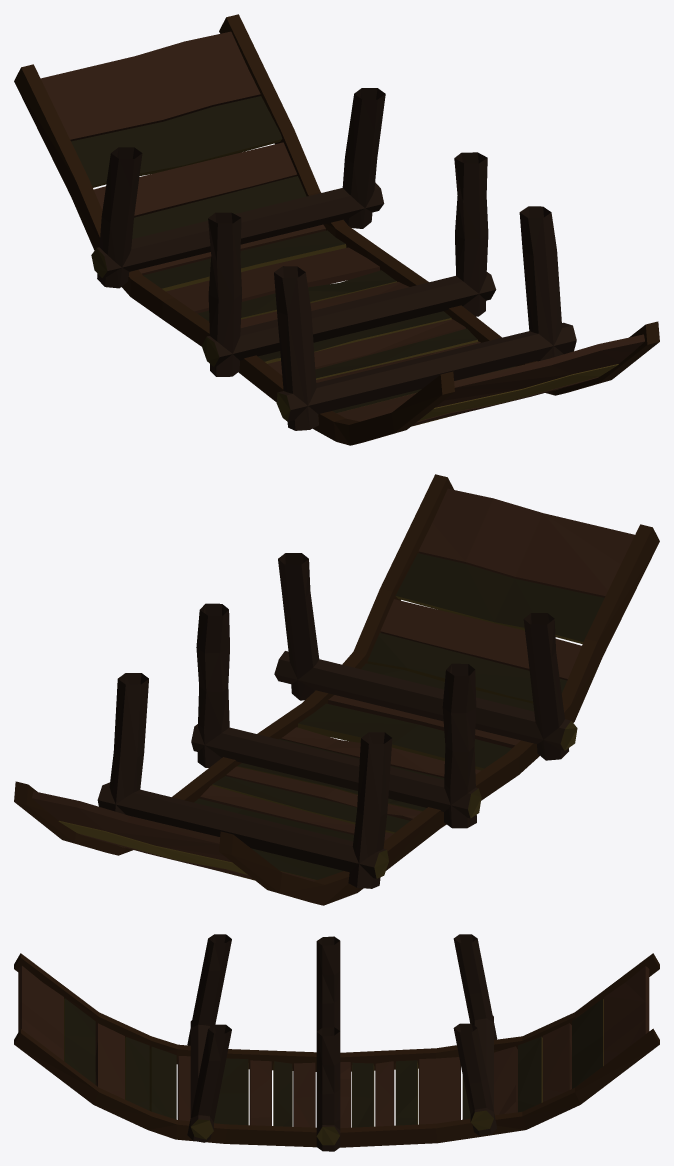
The model's file is brige.FBX.
3 views of the same model, one above another, from view 1: azimuth 30°, elevation 25°; view 2: azimuth 150°, elevation 25°; view 3: azimuth 270°, elevation 25° (orthographic). The views are drawn at different scales.
Parts seen in each view (by area): view 1: brige; view 2: brige; view 3: brige.
Part boxes in pixels (bbox=[...]): brige: bbox=[14, 14, 659, 445]; brige: bbox=[14, 474, 659, 905]; brige: bbox=[14, 934, 659, 1151].
Bounding box in the file's own units: 2.53 × 6.48 × 1.34.
